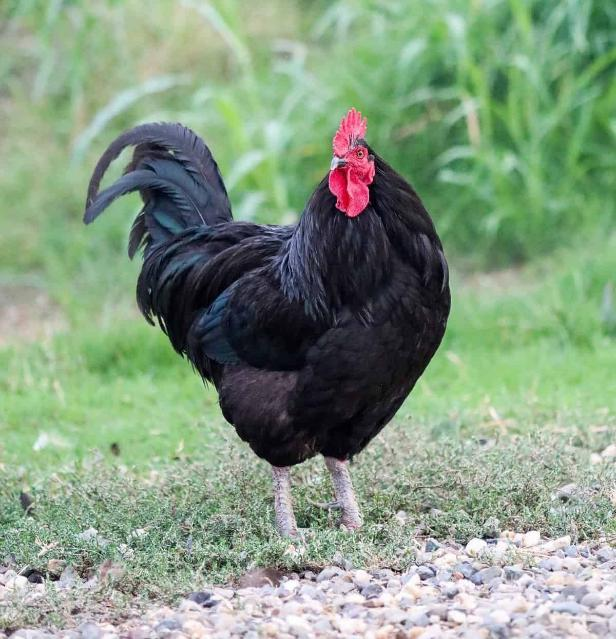Chicken: (82, 103, 452, 541)
